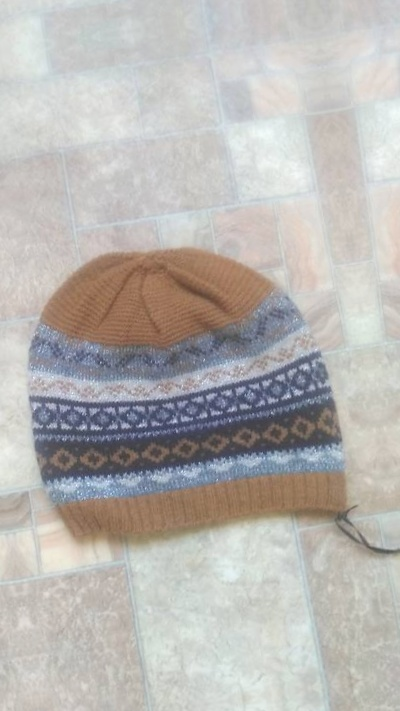Hat: (0, 182, 390, 610), (350, 124, 400, 552), (0, 243, 1, 671)
